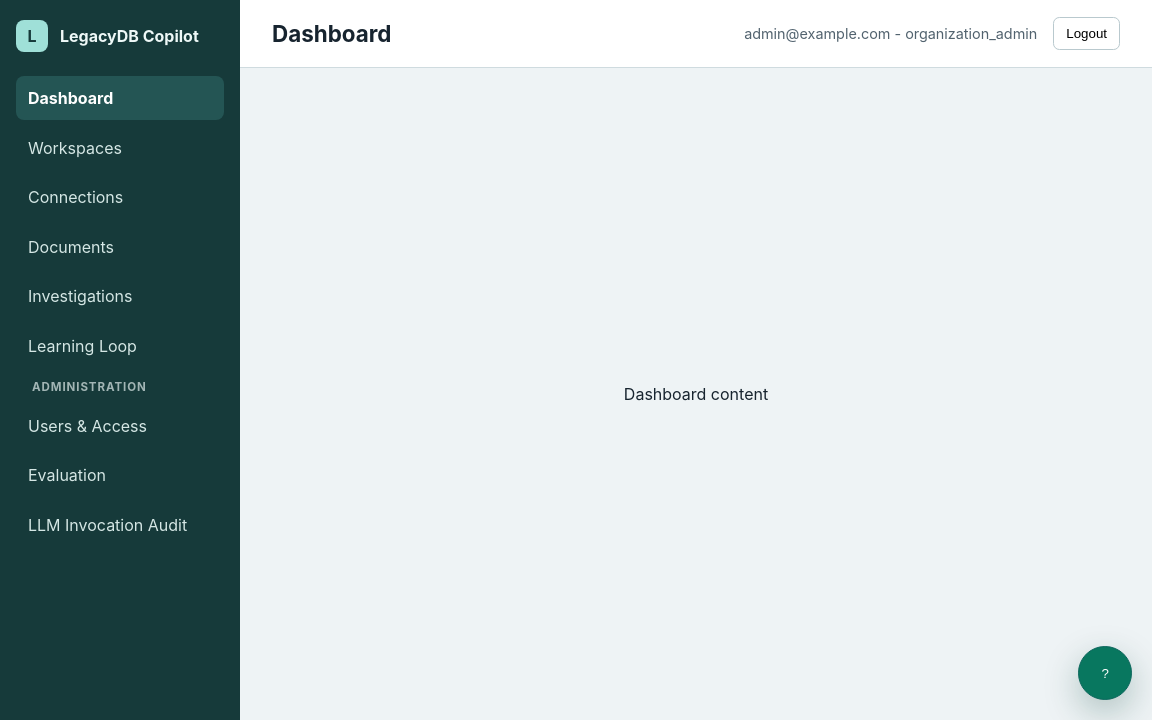
Test: AppLayout › keeps logout available from the authenticated header
What coordinates should you click on to do the following:
click the button "Logout"
I would click on:
 (1087, 34)
Its box is [1053, 17, 1120, 50].
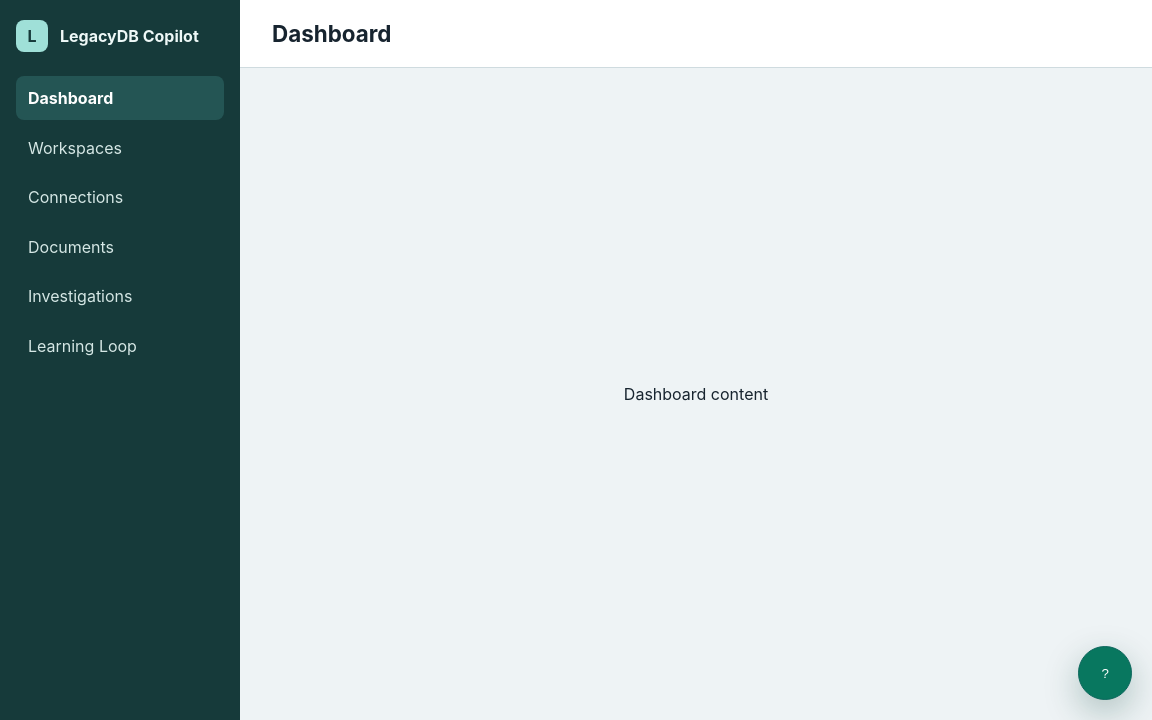
Check: the text "admin@example.com - organization_admin" is gone
